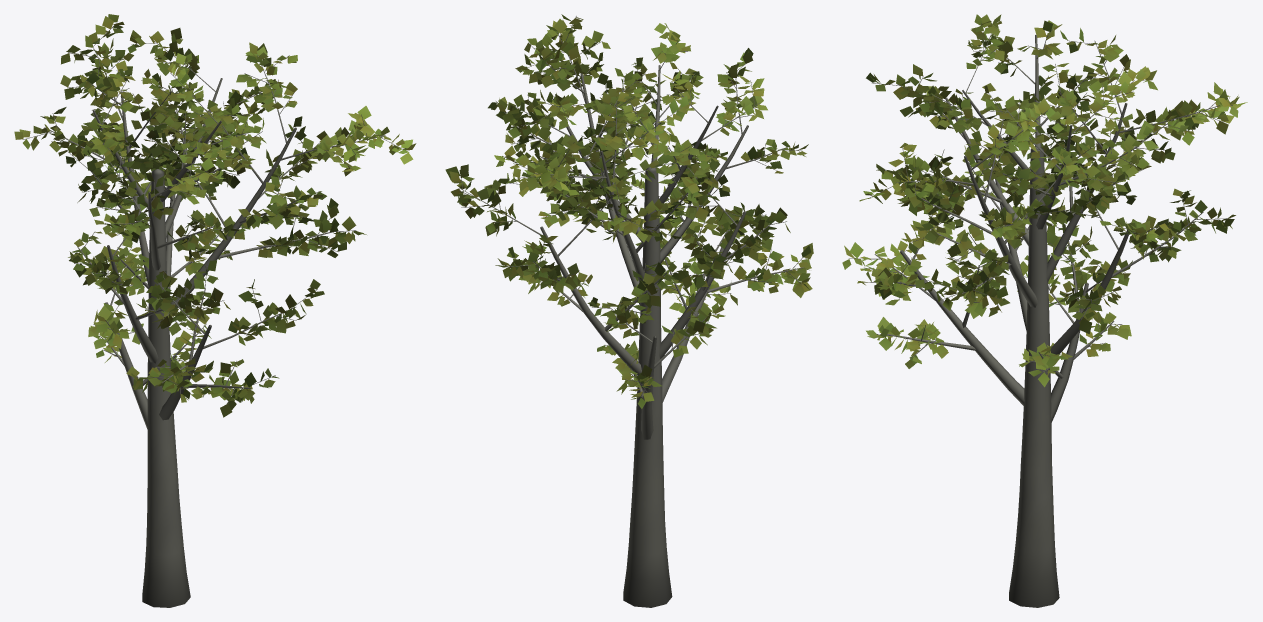
The model's file is beech-b.lod0.glb.
3 renders of one model, left to right at view 1: azimuth 30°, elevation 25°; view 2: azimuth 150°, elevation 25°; view 3: azimuth 270°, elevation 25°, orthographic. The views are drawn at different scales.
Bounding box in the file's own units: 5.39 × 9.96 × 6.3.
